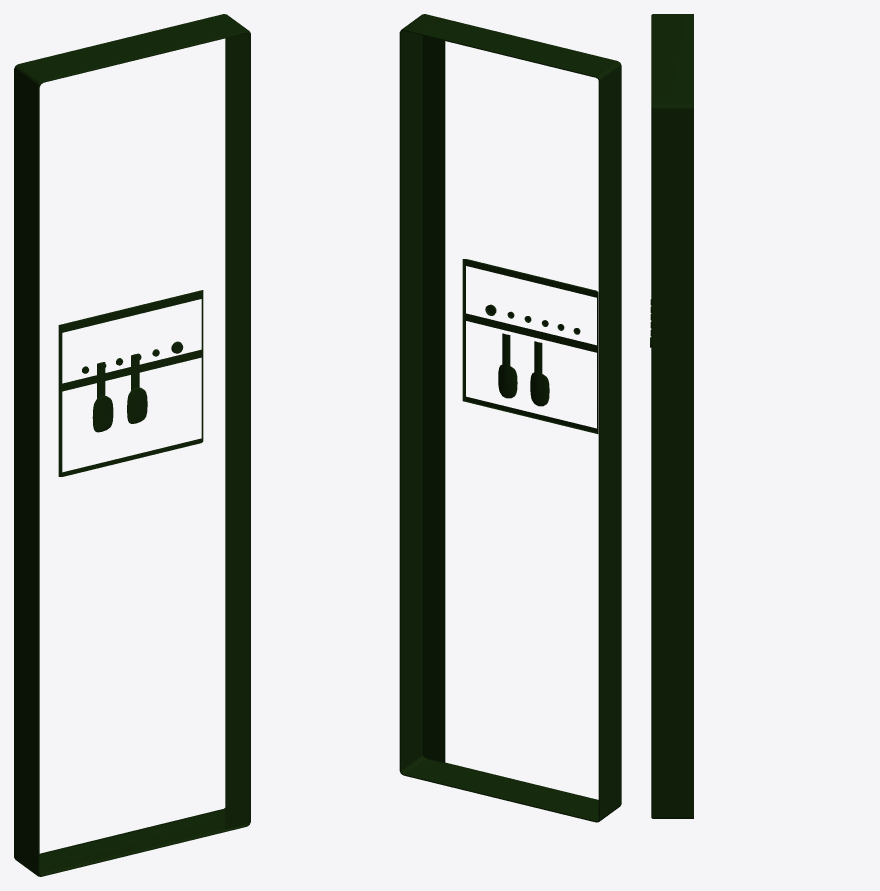
Rendered from Fridge_14_Mesh_2_4.obj.
3 views of the same model, side by side, from view 1: azimuth 30°, elevation 25°; view 2: azimuth 150°, elevation 25°; view 3: azimuth 270°, elevation 25° (orthographic). The views are drawn at different scales.
Size of the model in its own units: 0.584 by 1.91 by 0.4936.
